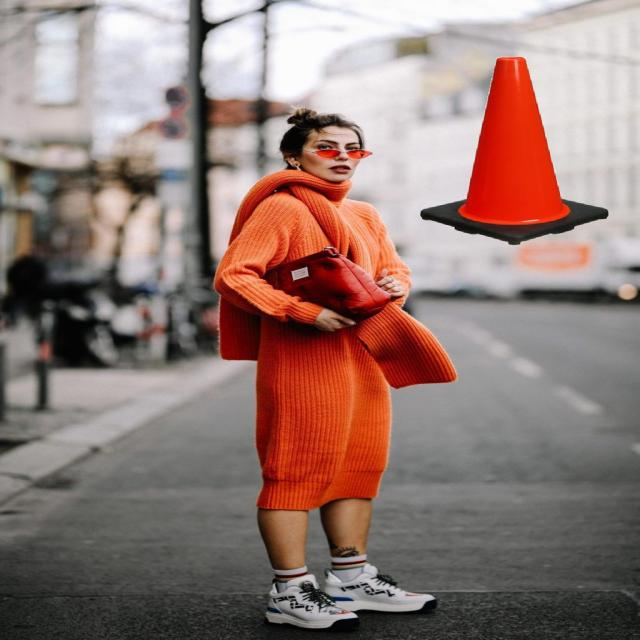traffic cone: (407, 53, 620, 254)
